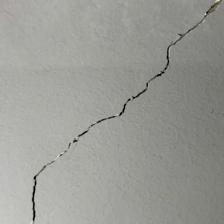Medium: (21, 32, 192, 213)
